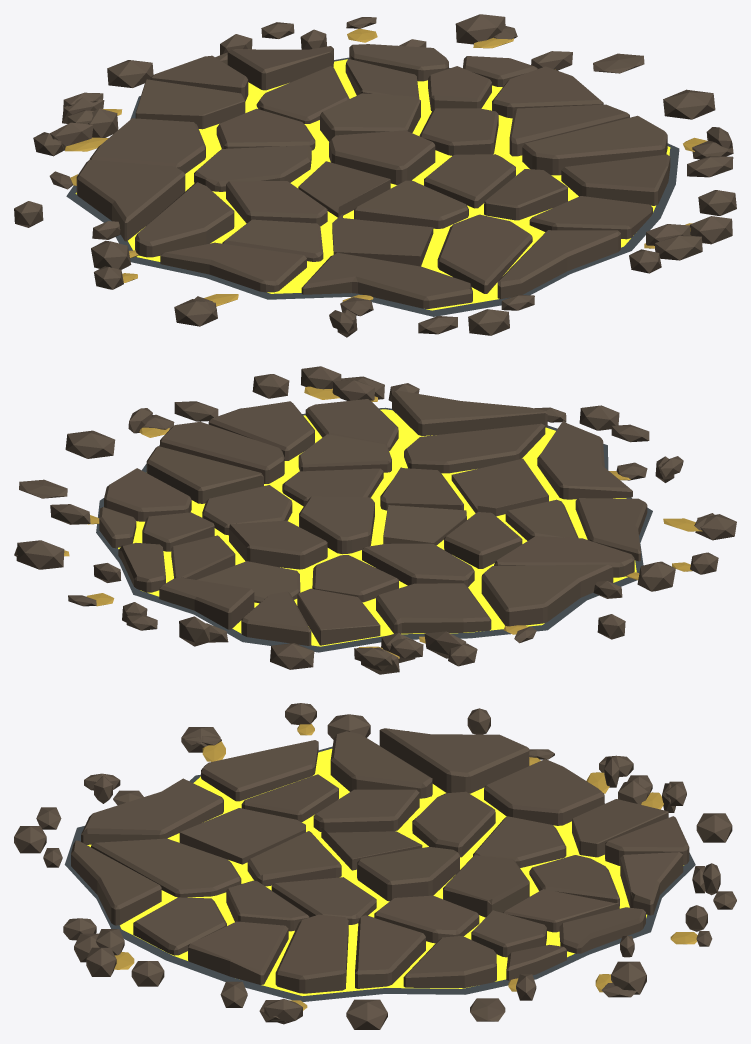
The model's file is SM_GeothermalSite.fbx.
3 views of the same model, one above another, from view 1: azimuth 30°, elevation 25°; view 2: azimuth 150°, elevation 25°; view 3: azimuth 270°, elevation 25° (orthographic). The views are drawn at different scales.
Parts seen in each view (by area): view 1: SM_GeothermalSite.002; view 2: SM_GeothermalSite.002; view 3: SM_GeothermalSite.002.
Part boxes in pixels (x1,y1,x2,y2): SM_GeothermalSite.002: (14,14,736,337); SM_GeothermalSite.002: (14,366,736,674); SM_GeothermalSite.002: (14,703,736,1029).
Bounding box in the file's own units: 380 × 365 × 21.06.
